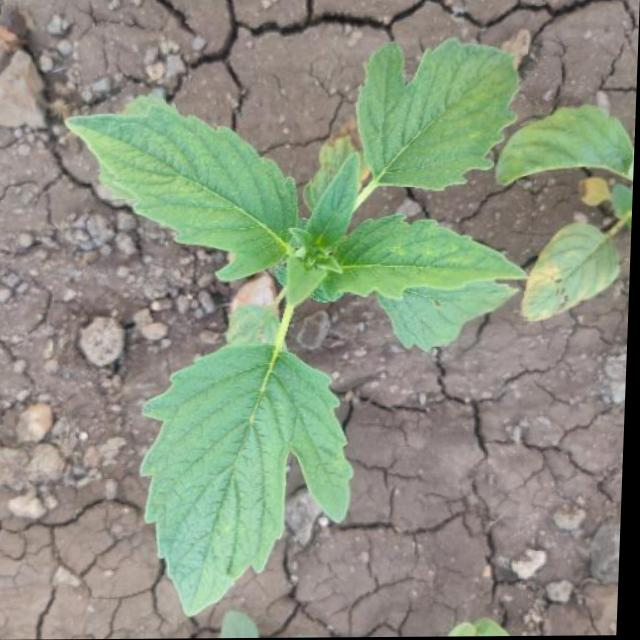crop: (44, 32, 549, 640)
